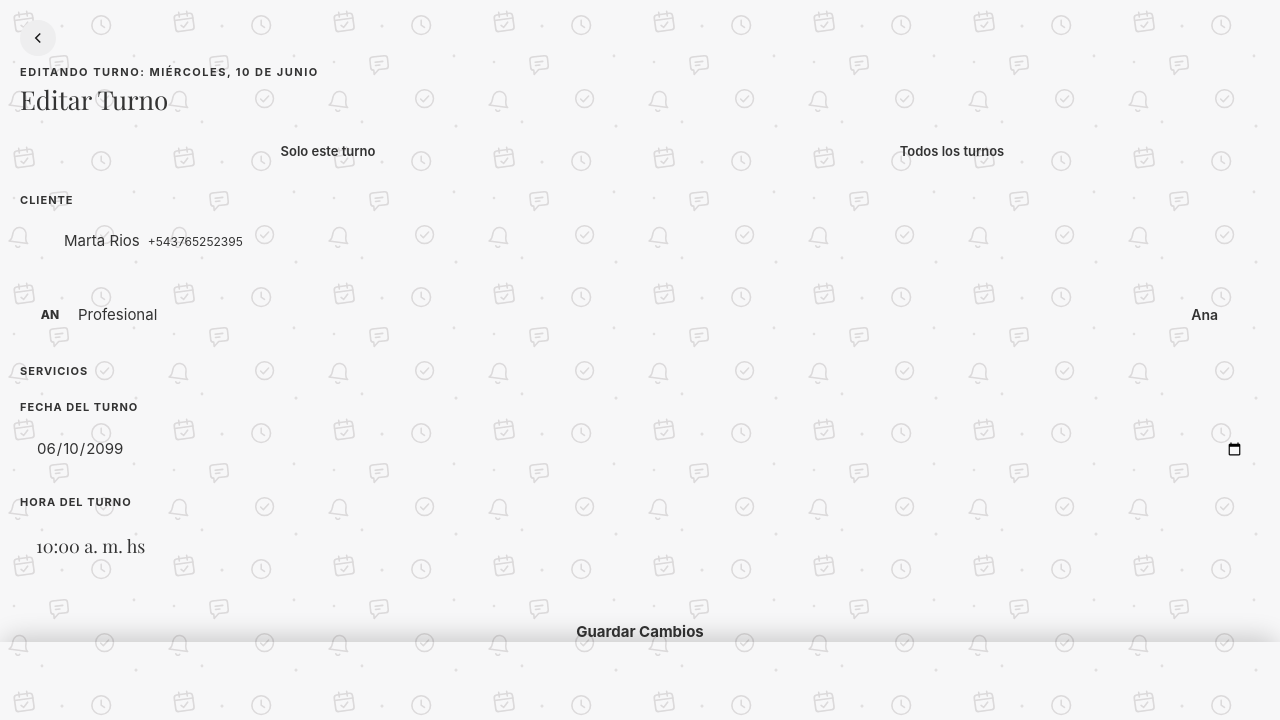
Test case: EditarTurnoPage — mover todo el combo › lista lo que se mueve (sin los ya atendidos ni cancelados) y ocultar jerga
Click the button "Todos los turnos". click: (952, 152)
box: [644,132,1260,172]
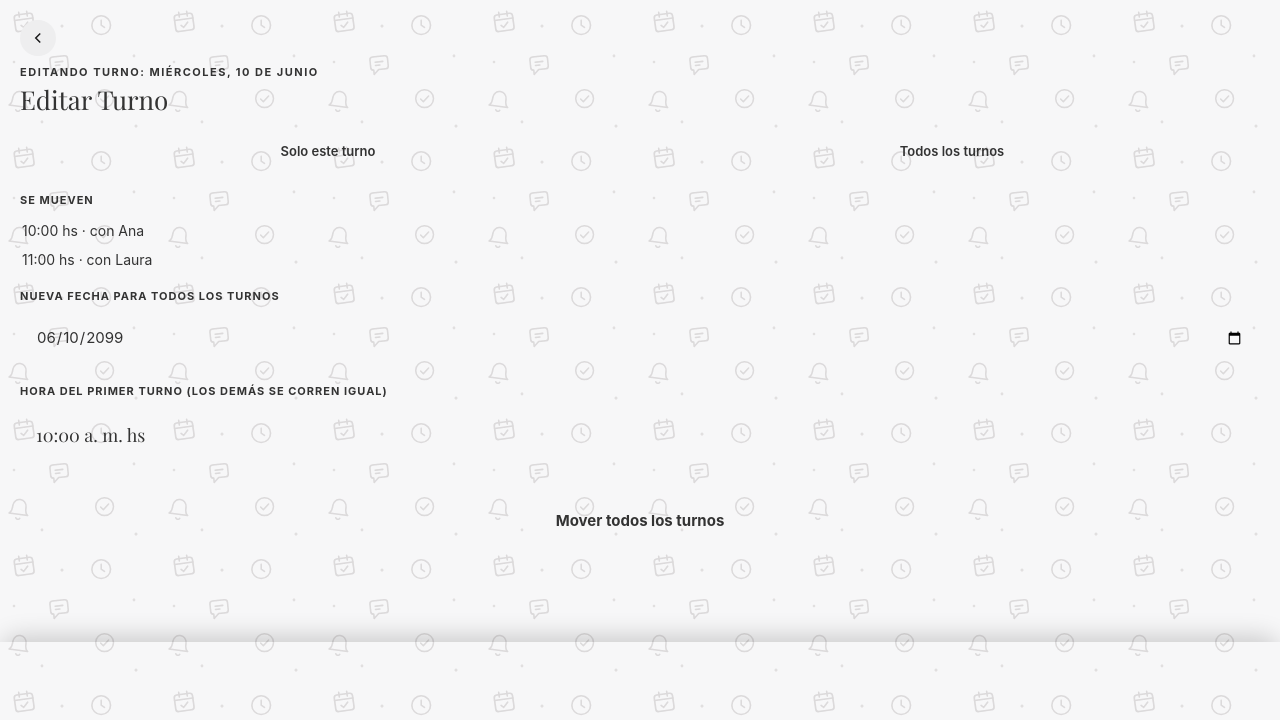
Result: the text "10:00 hs · con Ana" is shown at [22,222,144,239]
Result: the text "11:00 hs · con Laura" is shown at [22,251,152,268]
